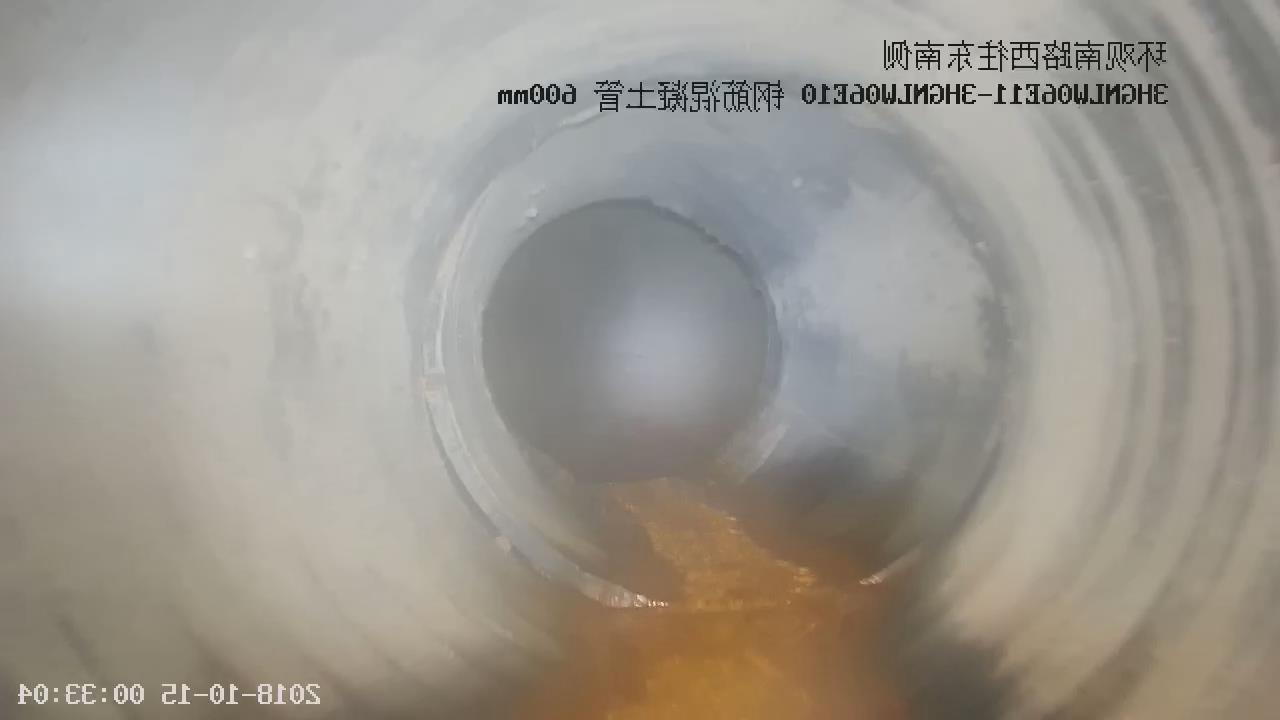CJ: (531, 478, 905, 719)
CKTJ: (418, 216, 666, 606)
